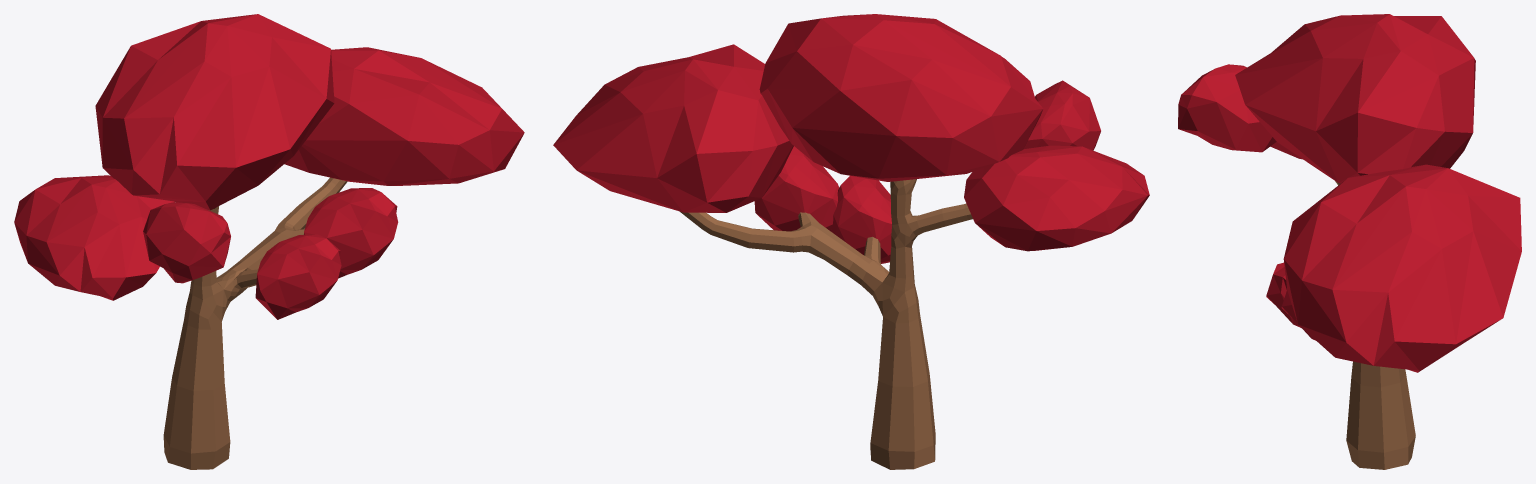
Rendered from Tree_5.fbx.
3 views of the same model, side by side, from view 1: azimuth 30°, elevation 25°; view 2: azimuth 150°, elevation 25°; view 3: azimuth 270°, elevation 25° (orthographic). The views are drawn at different scales.
Parts seen in each view (by area): view 1: Tree_5_LOD0; view 2: Tree_5_LOD0; view 3: Tree_5_LOD0.
Boxes of the visible parts, x1,y1,x2,y2 form: Tree_5_LOD0: [14, 14, 524, 469]; Tree_5_LOD0: [553, 14, 1149, 469]; Tree_5_LOD0: [1178, 14, 1521, 469].
Size of what is drawn, in the model's own units: 199 by 163 by 112.
